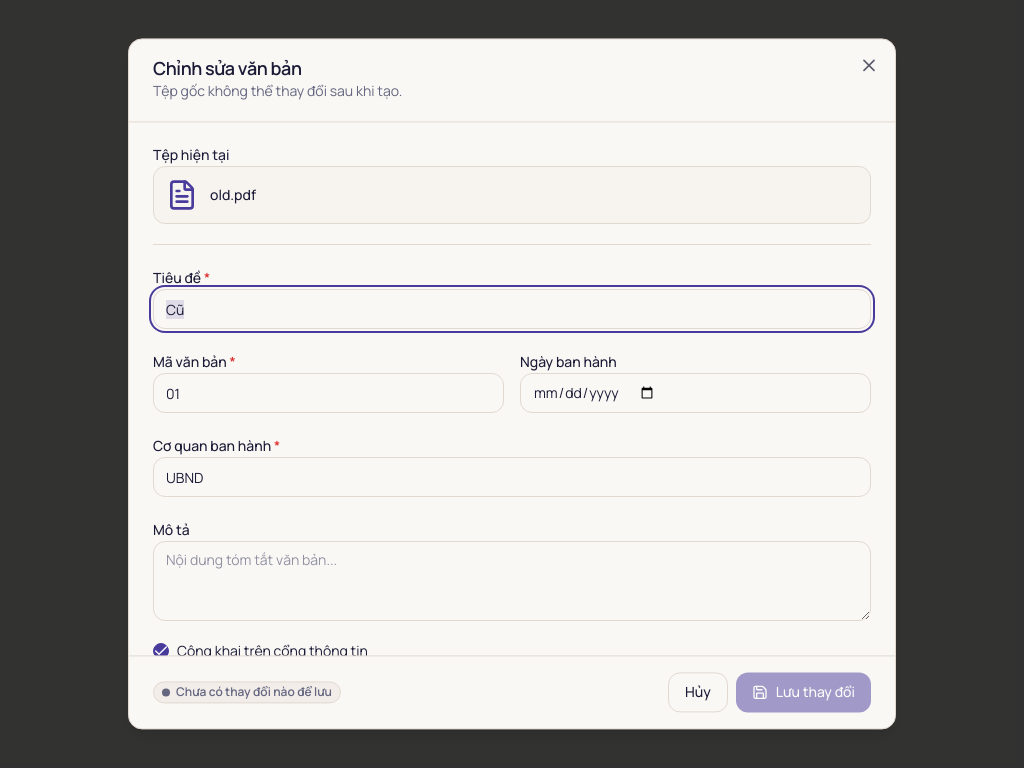
DocumentFormDialog › disables update until an edit field changes
Expected: the button "Lưu thay đổi" is disabled, [736,673,871,713]
Step 1. Replace the text in the field labelled "Tiêu đề *" with "Mới" → x=512, y=309, box [153,289,871,329]
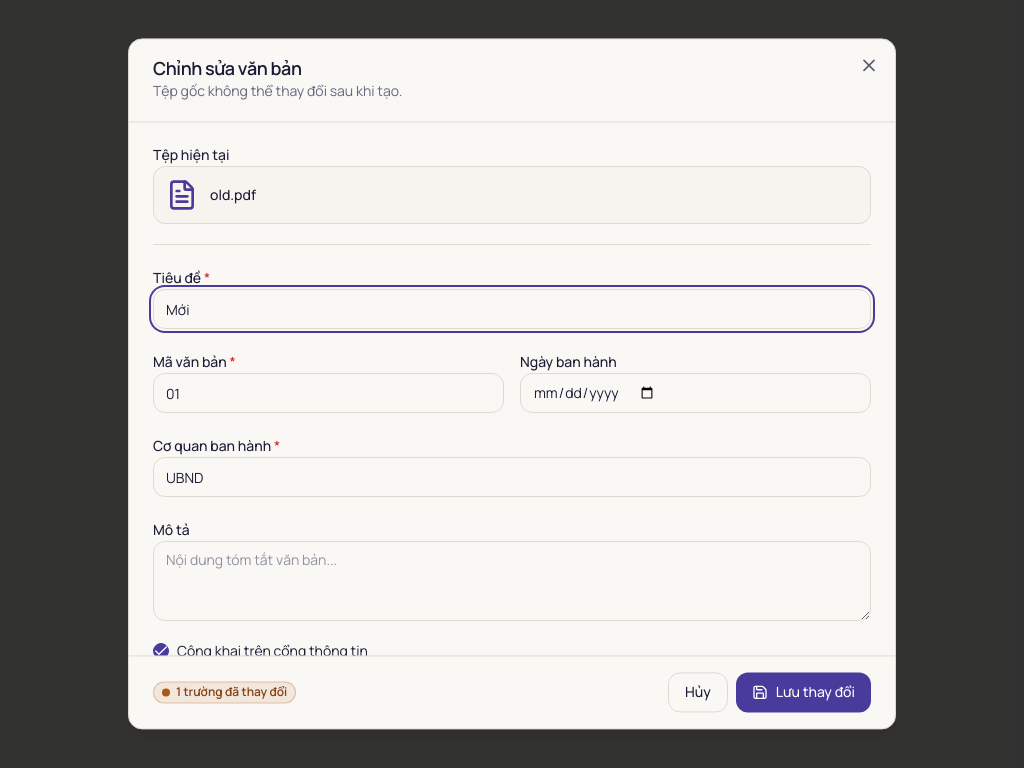
Now the button "Lưu thay đổi" is enabled, box [736,673,871,713]
